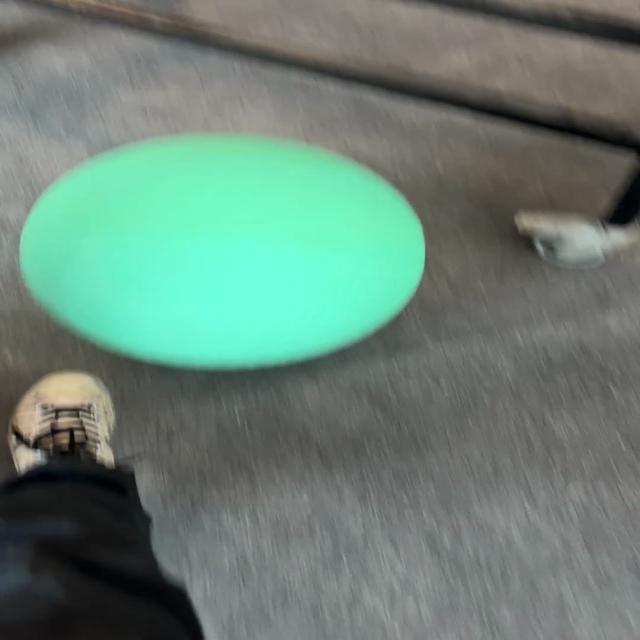Algae: (17, 130, 427, 372)
